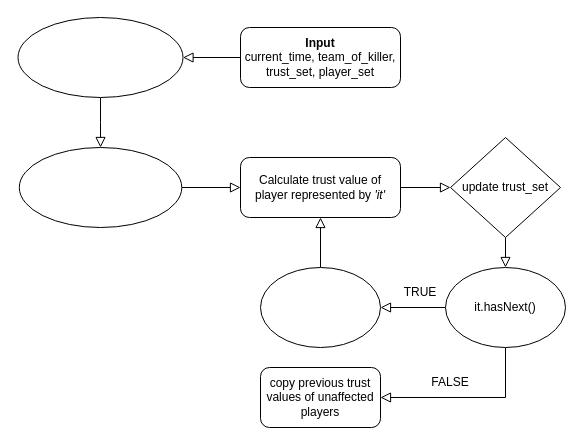
Some shapes in this 583 by 445 pixel diagram are drawn without their labels. Here are the shapes that lost their labels. From the top down, the centre of each, then its label:
(100,57): normalise(current_time) for use in new trust calculation
(100,187): it = team_of_killer.iterator()
(320,307): it = it.next()
